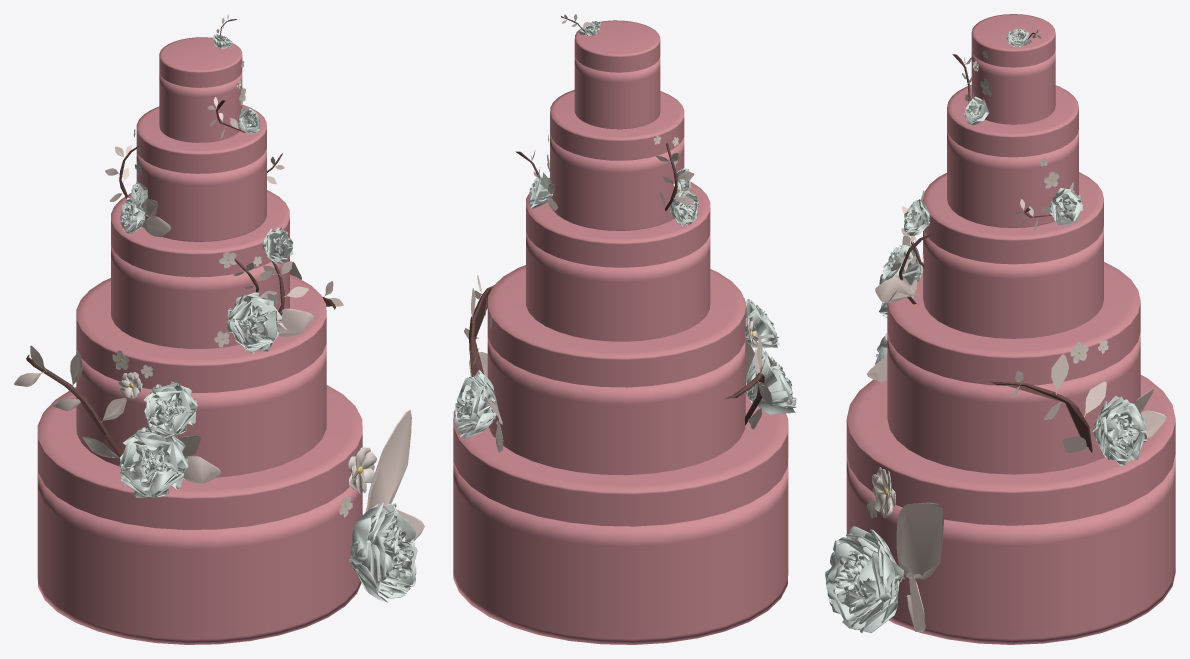
Rendered from 5-tier-blush-roses-none.glb.
3 renders of one model, left to right at view 1: azimuth 30°, elevation 25°; view 2: azimuth 150°, elevation 25°; view 3: azimuth 270°, elevation 25°, orthographic. The views are drawn at different scales.
Visible parts, largest first — view 1: 3.004, 3.003, 3.002, 2.001, 1.001, grid.002, grid.001, Plane.017, grid.005, Plane.015, grid.004, Plane (+5 smaller); view 2: 3.004, 3.003, 3.002, 2.001, 1.001, grid.009, grid.001, Plane.033, Plane.017, grid.004, grid.006, Plane.018 (+1 smaller); view 3: 3.004, 3.003, 3.002, 2.001, 1.001, grid.002, Plane.015, grid.009, Plane.033, grid.005, grid.008, Plane (+5 smaller).
Part boxes in pixels (<box>): 3.004: <box>37,385,362,644</box>; 3.003: <box>76,274,326,477</box>; 3.002: <box>111,190,289,348</box>; 2.001: <box>136,104,266,241</box>; 1.001: <box>159,37,242,142</box>; grid.002: <box>349,502,417,602</box>; grid.001: <box>119,427,188,497</box>; Plane.017: <box>14,345,126,458</box>; grid.005: <box>227,292,282,354</box>; Plane.015: <box>365,409,411,512</box>; grid.004: <box>144,381,197,438</box>; Plane: <box>348,447,376,494</box>; 3.004: <box>453,393,788,644</box>; 3.003: <box>487,265,745,475</box>; 3.002: <box>526,177,710,341</box>; 2.001: <box>550,89,684,230</box>; 1.001: <box>574,20,660,129</box>; grid.009: <box>454,370,498,438</box>; grid.001: <box>745,349,796,414</box>; Plane.033: <box>464,275,493,376</box>; Plane.017: <box>724,333,772,429</box>; grid.004: <box>744,298,779,348</box>; grid.006: <box>670,190,698,226</box>; Plane.018: <box>656,142,694,210</box>; 3.004: <box>846,375,1175,644</box>; 3.003: <box>887,262,1140,474</box>; 3.002: <box>923,172,1103,338</box>; 2.001: <box>947,85,1078,227</box>; 1.001: <box>971,14,1055,124</box>; grid.002: <box>825,526,904,632</box>; Plane.015: <box>896,502,944,579</box>; grid.009: <box>1091,396,1146,465</box>; Plane.033: <box>990,354,1106,452</box>; grid.005: <box>879,242,922,285</box>; grid.008: <box>1049,188,1082,226</box>; Plane: <box>872,467,895,517</box>.
Size of the model in its own units: 7.07 by 10.49 by 5.9.
